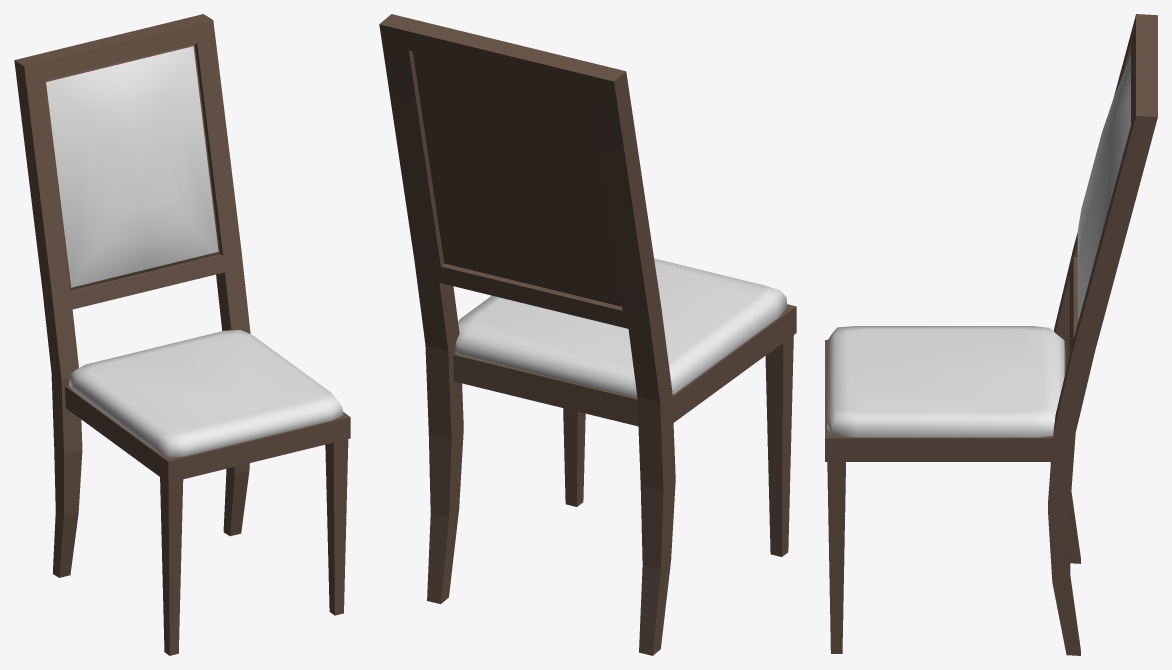
Rendered from Chair2_W.fbx.
3 views of the same model, side by side, from view 1: azimuth 30°, elevation 25°; view 2: azimuth 150°, elevation 25°; view 3: azimuth 270°, elevation 25° (orthographic). The views are drawn at different scales.
Visible parts, largest first — view 1: polySurface24, polySurface23, polySurface20, polySurface18, polySurface22, polySurface17; view 2: polySurface23, polySurface20, polySurface21, polySurface22, polySurface18, polySurface17; view 3: polySurface20, polySurface23, polySurface18, polySurface24, polySurface17.
Part boxes in pixels (box(x1,y1,x2,y2)): polySurface24: box(46, 46, 218, 287); polySurface23: box(14, 14, 250, 577); polySurface20: box(69, 330, 343, 457); polySurface18: box(65, 385, 350, 482); polySurface22: box(160, 477, 183, 655); polySurface17: box(325, 439, 348, 615); polySurface23: box(379, 14, 675, 655); polySurface20: box(455, 258, 787, 398); polySurface21: box(453, 353, 638, 426); polySurface22: box(765, 335, 793, 556); polySurface18: box(672, 304, 796, 422); polySurface17: box(563, 408, 585, 506); polySurface20: box(827, 326, 1064, 437); polySurface23: box(1048, 14, 1157, 655); polySurface18: box(825, 340, 1053, 461); polySurface24: box(1077, 55, 1130, 321); polySurface17: box(827, 462, 845, 653).
Bounding box in the file's own units: 40 × 99.11 × 55.14.
